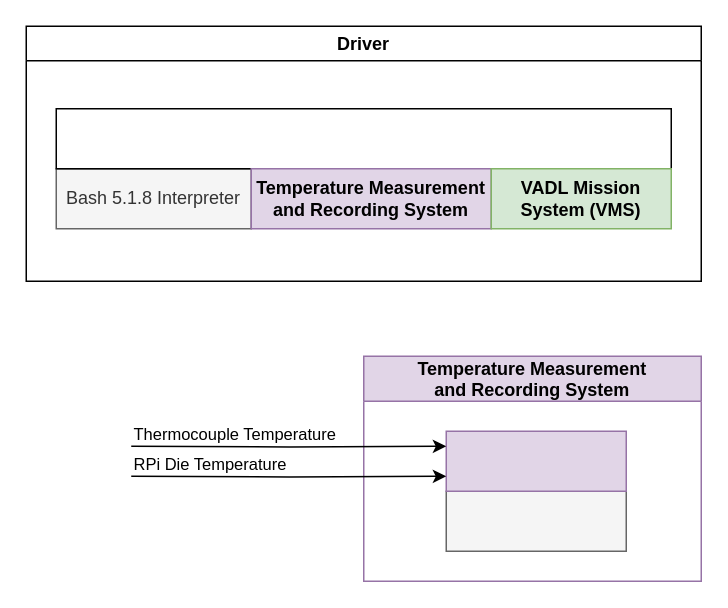
The diagram is 728 pixels wide and 608 high, and some of its shapes have lost their labels. Here are the shapes that lost their labels. From the top down, the centre of each, then its label:
At (363,138): "Driver Script".
At (535,460): "Measurement and Recording Script".
At (535,520): "Python 3.7.11m Interpreter".
